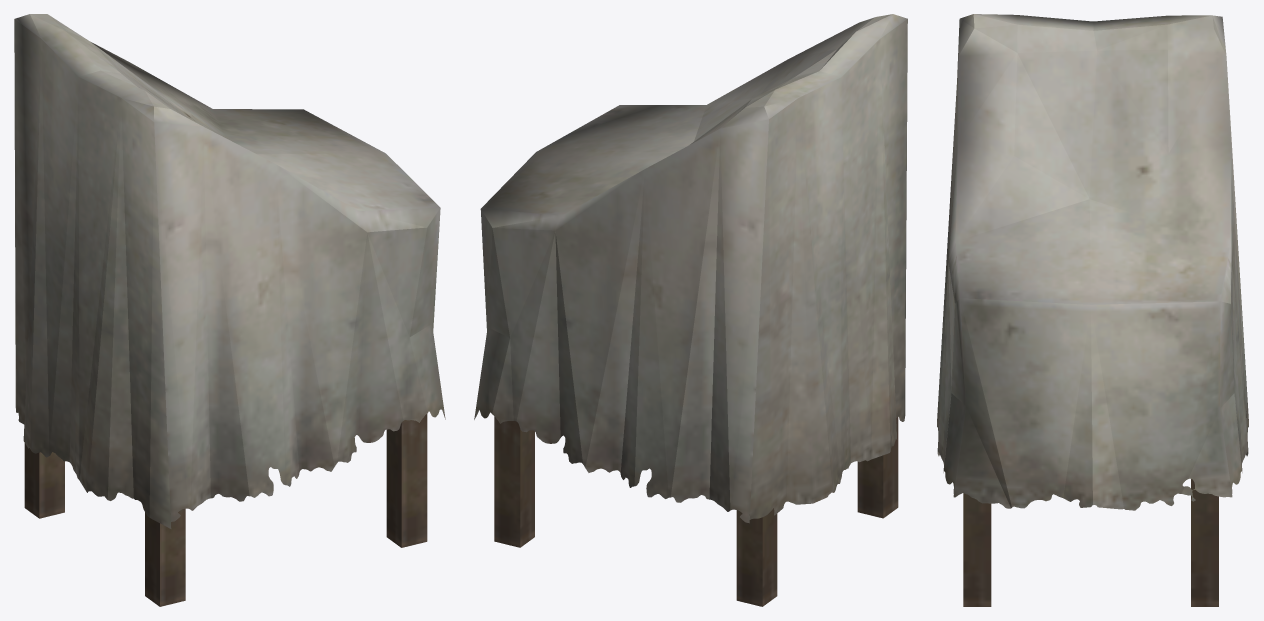
Rendered from bg_lut_lucastle_furniture02_sm_artree.FBX.
The picture shows the model from 3 angles, left to right: view 1: azimuth 30°, elevation 25°; view 2: azimuth 150°, elevation 25°; view 3: azimuth 270°, elevation 25°; orthographic projection. The views are drawn at different scales.
Visible parts, largest first — view 1: bg_lut_lucastle_furniture02_sm_artree; view 2: bg_lut_lucastle_furniture02_sm_artree; view 3: bg_lut_lucastle_furniture02_sm_artree.
Boxes of the visible parts, x1,y1,x2,y2 form: bg_lut_lucastle_furniture02_sm_artree: (14,14,445,606); bg_lut_lucastle_furniture02_sm_artree: (474,14,907,606); bg_lut_lucastle_furniture02_sm_artree: (937,14,1248,606).
Bounding box in the file's own units: 58.39 × 80.25 × 48.52.
